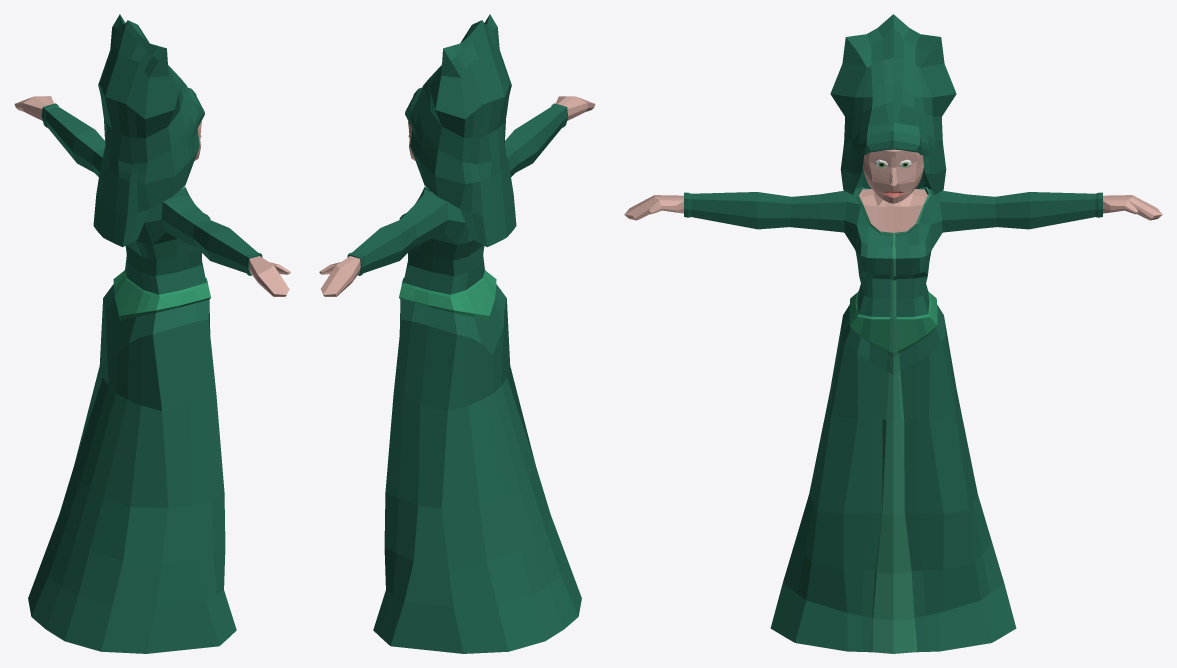
The model's file is hos.fbx.
3 views of the same model, side by side, from view 1: azimuth 30°, elevation 25°; view 2: azimuth 150°, elevation 25°; view 3: azimuth 270°, elevation 25° (orthographic).
Visible parts, largest first — view 1: Cube.001, Cube.002, Cube; view 2: Cube.001, Cube.002, Cube; view 3: Cube.001, Cube.002, Cube.
Part boxes in pixels (<box>): Cube.001: <box>28,103,262,653</box>; Cube.002: <box>93,14,204,247</box>; Cube: <box>14,96,290,296</box>; Cube.001: <box>347,103,581,653</box>; Cube.002: <box>405,14,516,247</box>; Cube: <box>319,96,595,296</box>; Cube.001: <box>684,187,1102,653</box>; Cube.002: <box>830,14,956,194</box>; Cube: <box>624,149,1162,232</box>.
Size of the model in its own units: 74.44 by 253 by 206.
